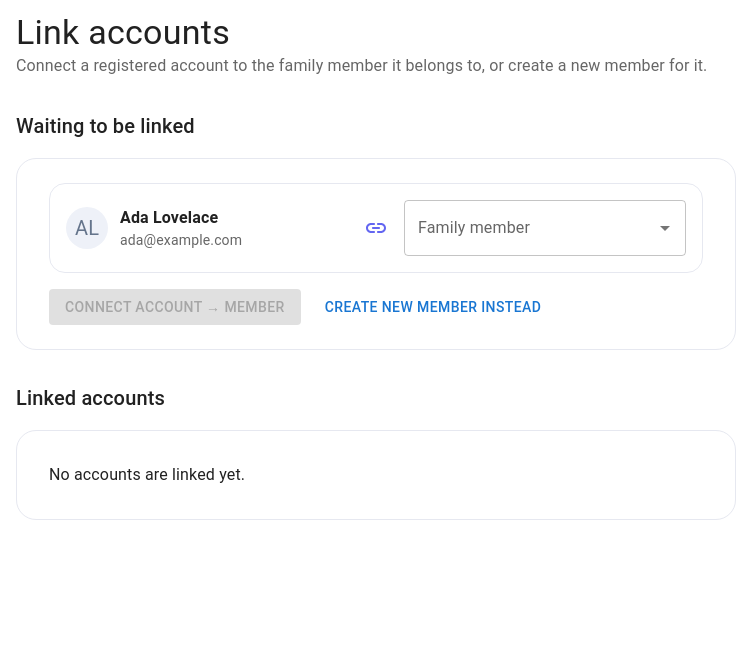
Test: LinkAccountsPage › renders a per-row error and keeps the row when the mutation is rejected
Check: the text "ada@example.com" is shown, box [120,230,242,250]
Type "John" into the dropdown labelled "Family member" at [530, 228], box [413,209,647,247]
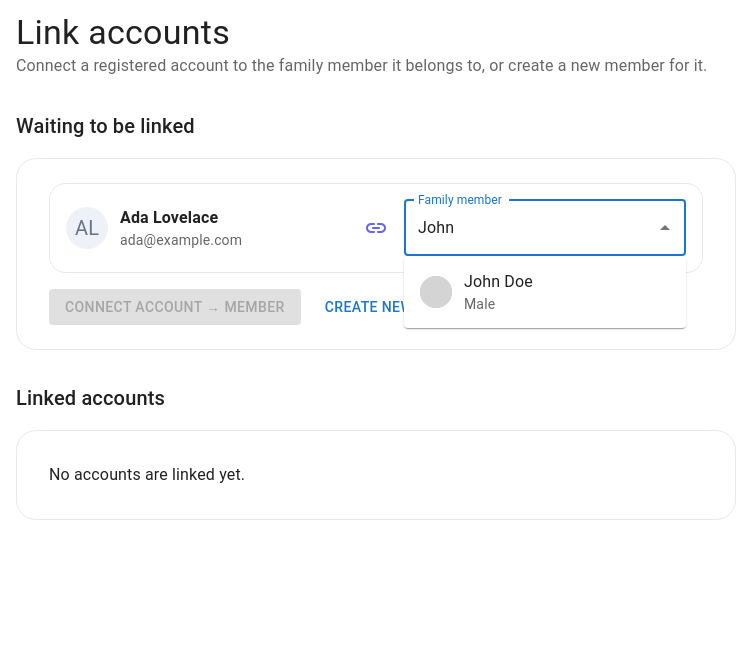
Click the option "John Doe Male" at [476, 292], box [420,272,533,312]
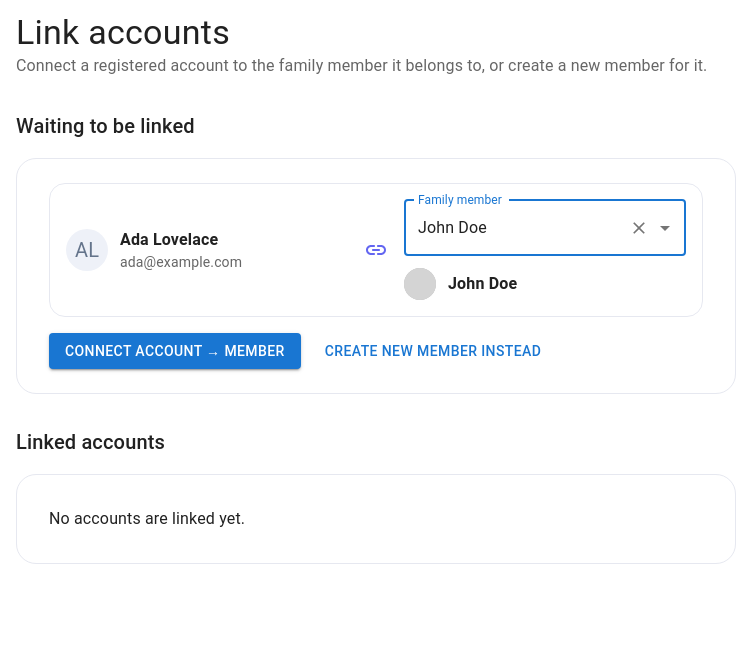
Click the button "Connect account → member" at [175, 351], box [49,333,301,370]
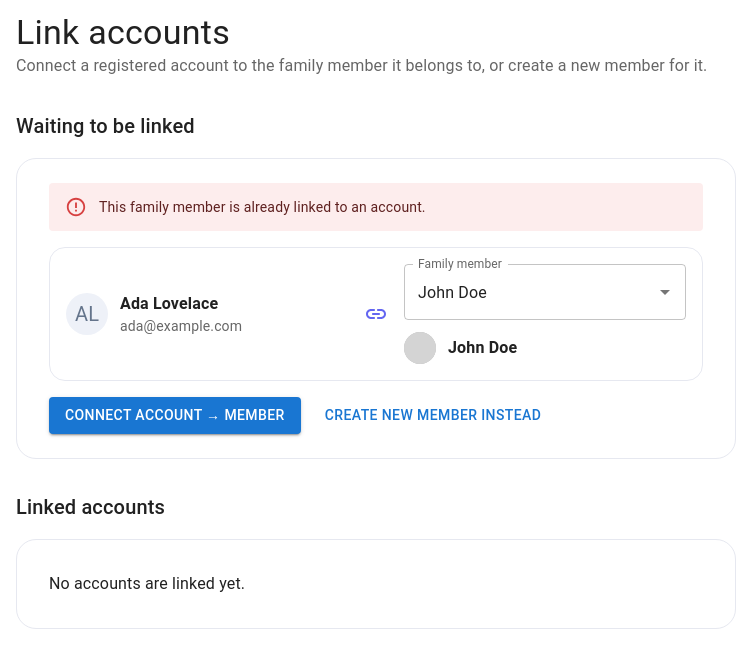
Check: the text "ada@example.com" is shown, box [120,316,242,336]
Check: the message reads "This family member is already linked to an account.", box [99,199,426,215]
